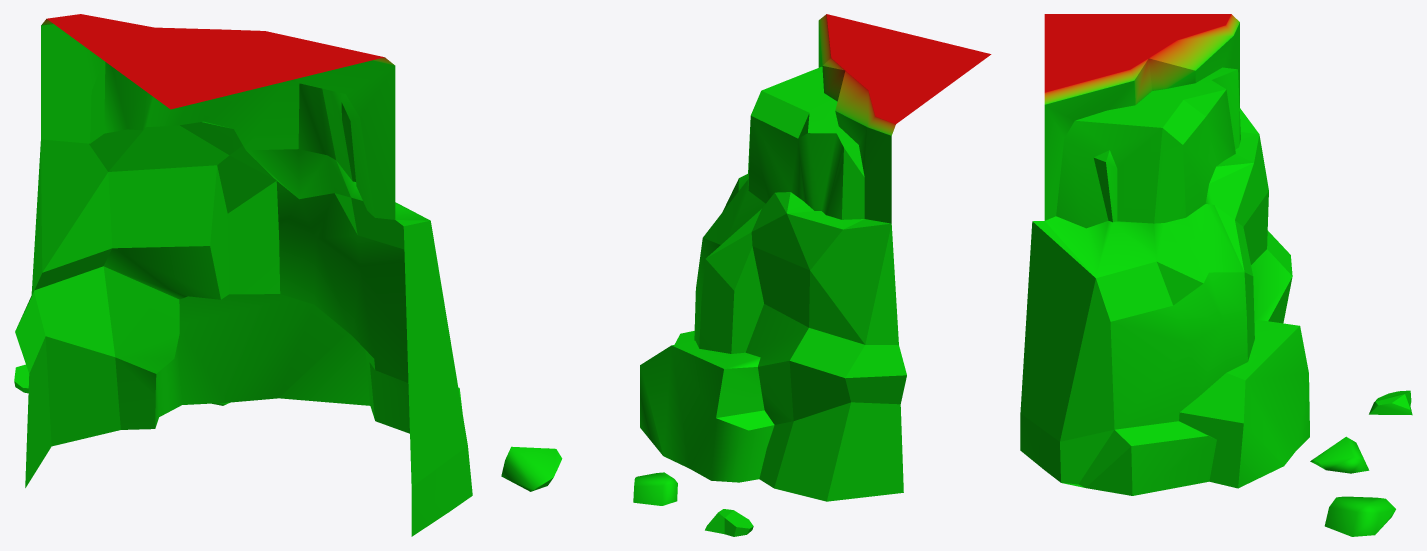
The model's file is Cliff_Corner_B.fbx.
3 views of the same model, side by side, from view 1: azimuth 30°, elevation 25°; view 2: azimuth 150°, elevation 25°; view 3: azimuth 270°, elevation 25° (orthographic). The views are drawn at different scales.
Parts seen in each view (by area): view 1: cliff_corner_B; view 2: cliff_corner_B; view 3: cliff_corner_B.
Boxes of the visible parts, x1,y1,x2,y2 form: cliff_corner_B: [14, 14, 472, 536]; cliff_corner_B: [501, 14, 991, 536]; cliff_corner_B: [1020, 14, 1412, 536].
Bounding box in the file's own units: 198 × 201 × 208.
